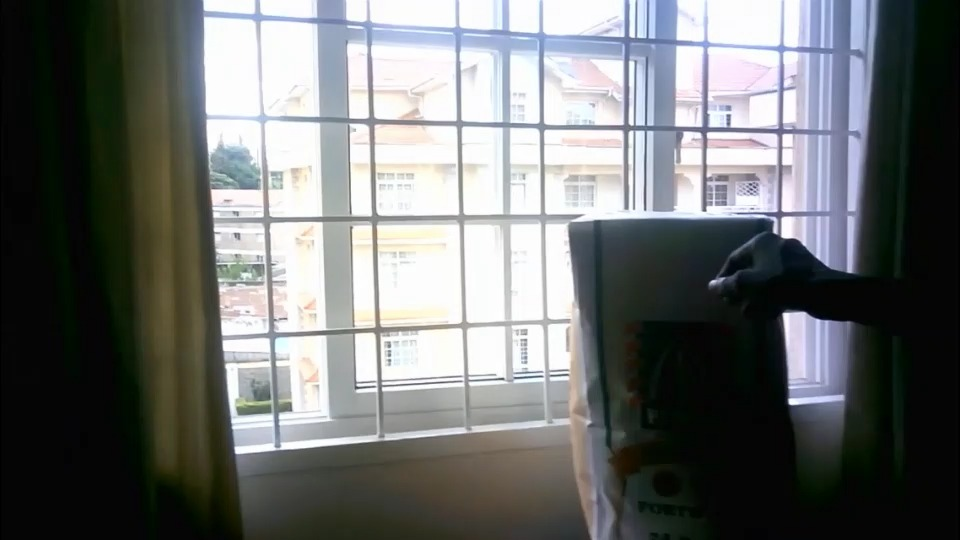maize_flour_green_label: (568, 211, 799, 533)
